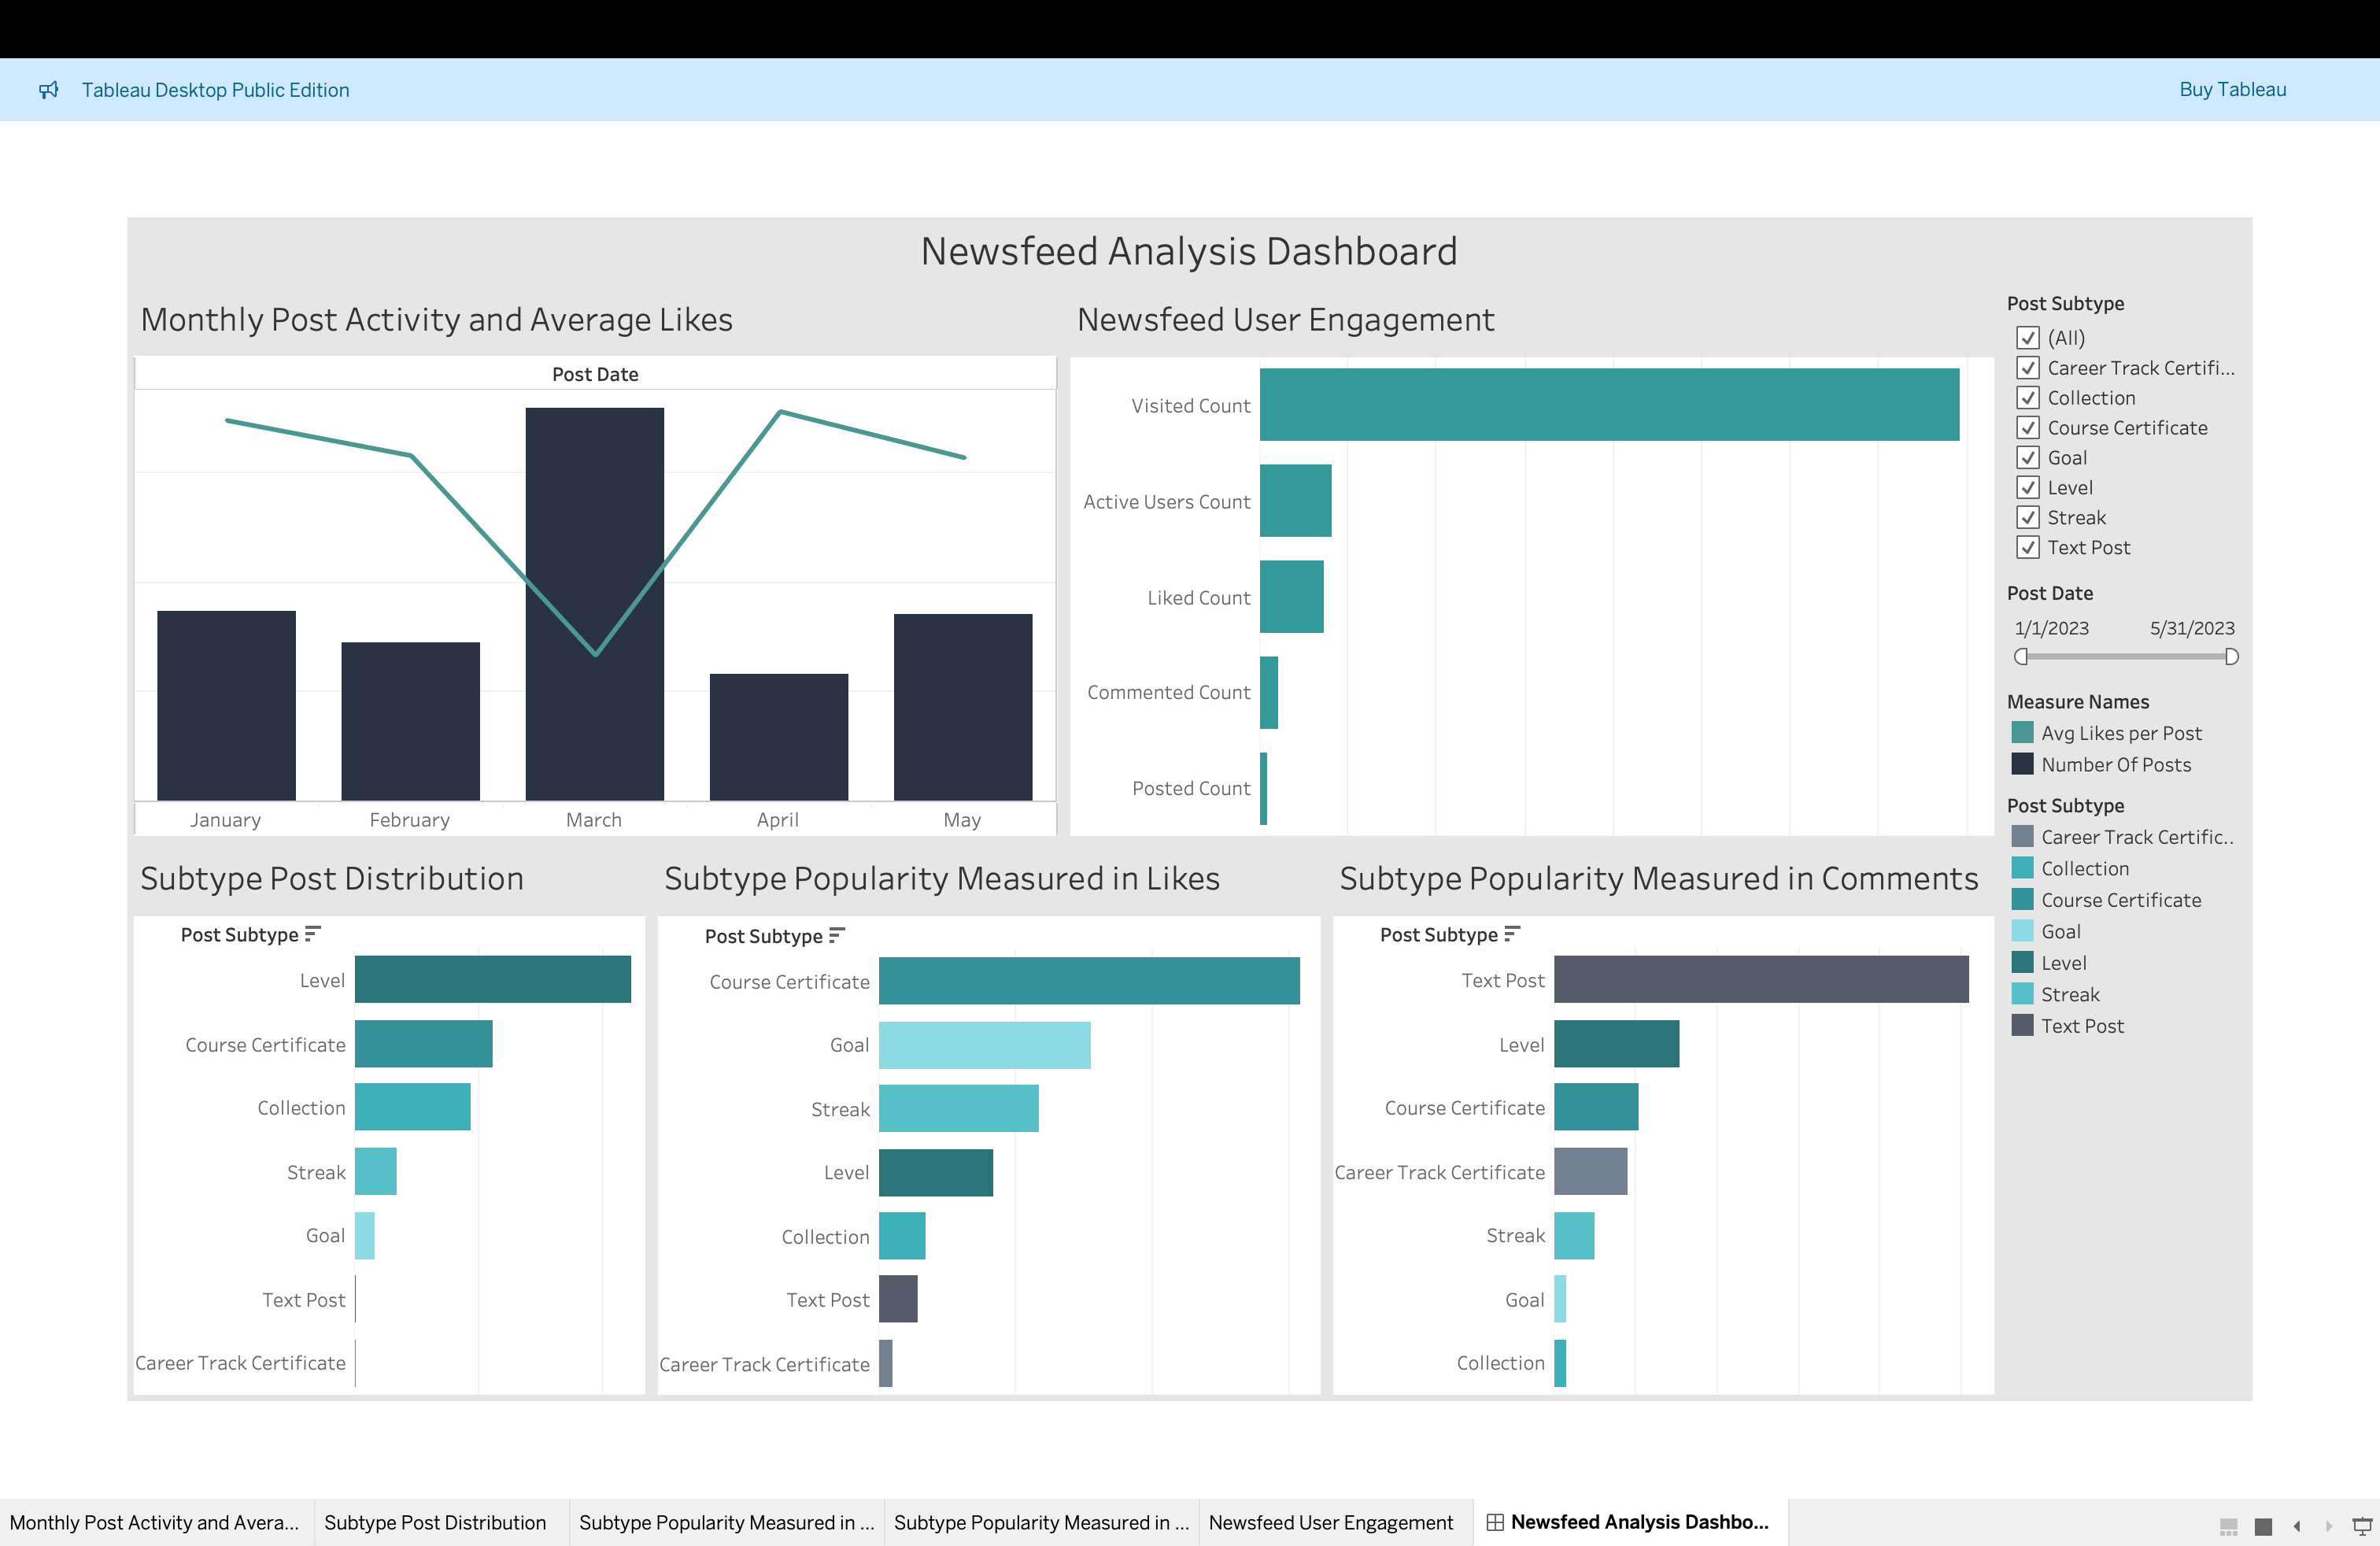

This screenshot's page, from the dashboard's own definition file:
{"tool":"tableau","page":{"name":"Newsfeed Analysis Dashboard","canvas":[1366,768],"ordinal":0},"visuals":[{"type":"title","box":[8,8,1350,42]},{"type":"worksheet","title":"Monthly Post Activity and Average Likes","mark":"Bar","rows":["number_of_posts","Calculation_962222263629008896"],"cols":["post_date"],"box":[8,50,595,355]},{"type":"worksheet","title":"Newsfeed User Engagement","mark":"Automatic","box":[603,50,595,355]},{"type":"filter","title":"Monthly Post Activity and Average Likes","param":"[federated.1u2n35i1xwz2qw16idjyf1kn14rl].[none:post_subtype:nk]","box":[1198,50,160,184]},{"type":"filter","title":"Monthly Post Activity and Average Likes","param":"[federated.1u2n35i1xwz2qw16idjyf1kn14rl].[none:post_date:qk]","box":[1198,234,160,69]},{"type":"legend","title":"Monthly Post Activity and Average Likes","param":"[federated.1u2n35i1xwz2qw16idjyf1kn14rl].[:Measure Names]","box":[1198,303,160,66]},{"type":"legend","title":"Subtype Post Distribution","param":"[federated.1u2n35i1xwz2qw16idjyf1kn14rl].[none:post_subtype:nk]","box":[1198,369,160,166]},{"type":"worksheet","title":"Subtype Post Distribution","mark":"Automatic","rows":["post_subtype"],"cols":["number_of_posts"],"box":[8,405,333,355]},{"type":"worksheet","title":"Subtype Popularity Measured in Likes","mark":"Automatic","rows":["post_subtype"],"cols":["number_of_likes"],"box":[341,405,429,355]},{"type":"worksheet","title":"Subtype Popularity Measured in Comments","mark":"Automatic","rows":["post_subtype"],"cols":["number_of_comments"],"box":[770,405,428,355]}]}

Visuals, with their boxes on the page's 1366x768 design canvas (x1, y1, x2, y2). These are canvas units, not pixel positions in the 2380x1546 screenshot, which may show the page scaled, cropped or inside an application window:
title: [8,8,1358,50]
"Monthly Post Activity and Average Likes" worksheet (Bar marks): [8,50,603,405]
"Newsfeed User Engagement" worksheet: [603,50,1198,405]
"Monthly Post Activity and Average Likes" filter: [1198,50,1358,234]
"Monthly Post Activity and Average Likes" filter: [1198,234,1358,303]
"Monthly Post Activity and Average Likes" legend: [1198,303,1358,369]
"Subtype Post Distribution" legend: [1198,369,1358,535]
"Subtype Post Distribution" worksheet: [8,405,341,760]
"Subtype Popularity Measured in Likes" worksheet: [341,405,770,760]
"Subtype Popularity Measured in Comments" worksheet: [770,405,1198,760]
